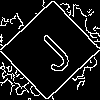J: (24, 25, 76, 76)
